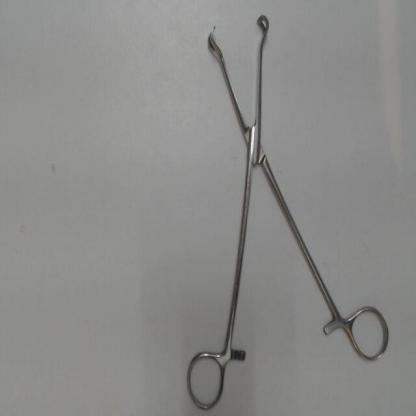8 Babcock Tissue Forceps: (180, 9, 398, 415)
